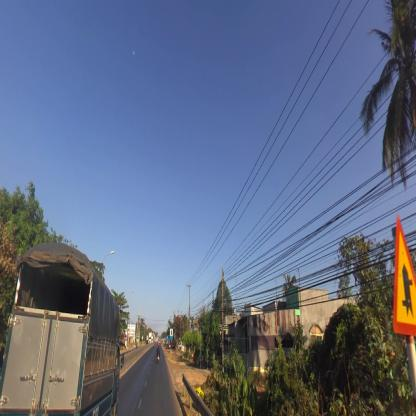Nguy hiem: (391, 211, 416, 342)
